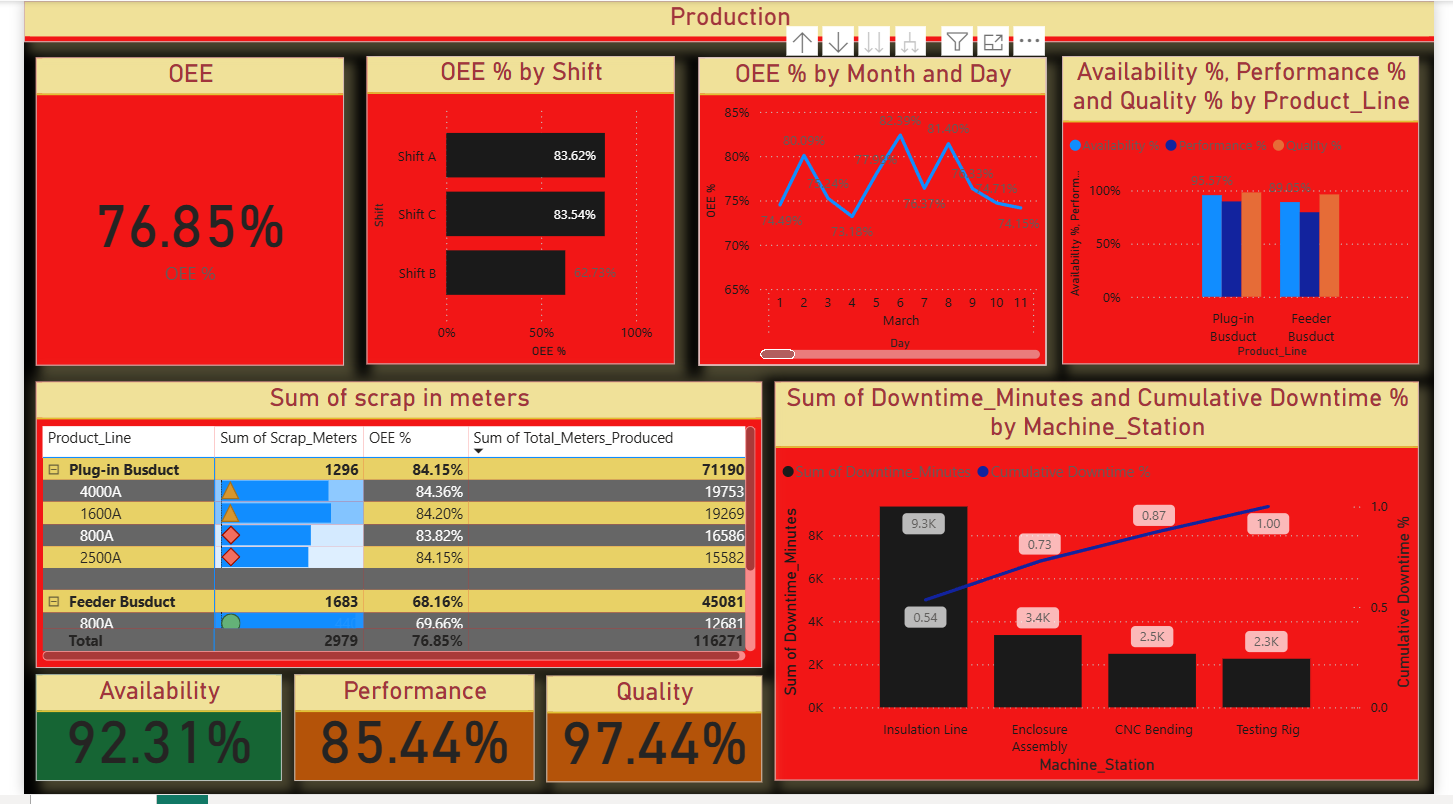

What the dashboard file says about the page in this screenshot:
{"tool":"powerbi","page":{"name":"OEE Sheet","canvas":[1280,720],"ordinal":0},"visuals":[{"type":"card","title":"OEE","fields":{"Values":["Downtime_Details.OEE %"]},"box":[10.7,51.2,279.9,279.9],"z":0},{"type":"clusteredBarChart","fields":{"Y":["Downtime_Details.OEE %"],"Category":["Downtime_Details.Shift"]},"box":[310.8,50,279.9,279.9],"z":1000},{"type":"textbox","title":"Production ","box":[0,0,1280.7,37.2],"z":2000},{"type":"lineClusteredColumnComboChart","fields":{"Y":["Sum(Downtime_Details.Downtime_Minutes)"],"Category":["Downtime_Details.Machine_Station"],"Y2":["Downtime_Details.Cumulative Downtime %"]},"box":[681.1,345.6,584.4,362.2],"z":3000},{"type":"lineChart","fields":{"Y":["Downtime_Details.OEE %"],"Category":["Production_Log.Date.Variation.Date Hierarchy.Month","Production_Log.Date.Variation.Date Hierarchy.Day"]},"box":[612.1,51.2,315.6,279.9],"z":4000},{"type":"clusteredColumnChart","fields":{"Category":["Production_Log.Product_Line"],"Y":["Downtime_Details.Availability %","Downtime_Details.Performance %","Downtime_Details.Quality %"]},"box":[942,50,323.9,279.9],"z":5000},{"type":"pivotTable","title":"Sum of scrap in meters","fields":{"Rows":["Production_Log.Product_Line","Production_Log.Amperage_Rating"],"Values":["Sum(Production_Log.Scrap_Meters)","Downtime_Details.OEE %","Sum(Production_Log.Total_Meters_Produced)"]},"box":[11.1,345.6,658.9,260],"z":6000},{"type":"card","title":"Availability ","fields":{"Values":["Downtime_Details.Availability %"]},"box":[11.1,611.1,223.3,96.7],"z":7000},{"type":"card","title":"Performance ","fields":{"Values":["Downtime_Details.Performance %"]},"box":[245.6,611.1,217.8,96.7],"z":8000},{"type":"card","title":"Quality ","fields":{"Values":["Downtime_Details.Quality %","select"]},"box":[474.4,612.2,195.6,96.7],"z":9000}]}

Visuals, with their boxes in screenshot pixels (x1, y1, x2, y2), scaled from the page's 1280x720 canvas onto the 1453x804 screenshot:
"OEE" card: [x1=12, y1=57, x2=330, y2=370]
clusteredBarChart - Downtime_Details.OEE % x Downtime_Details.Shift: [x1=353, y1=56, x2=671, y2=368]
"Production " textbox: [x1=0, y1=0, x2=1452, y2=42]
lineClusteredColumnComboChart - Sum(Downtime_Details.Downtime_Minutes) x Downtime_Details.Machine_Station: [x1=773, y1=386, x2=1437, y2=790]
lineChart - Downtime_Details.OEE % x Production_Log.Date.Variation.Date Hierarchy.Month: [x1=695, y1=57, x2=1053, y2=370]
clusteredColumnChart - Production_Log.Product_Line x Downtime_Details.Availability %: [x1=1069, y1=56, x2=1437, y2=368]
"Sum of scrap in meters" pivotTable: [x1=13, y1=386, x2=761, y2=676]
"Availability " card: [x1=13, y1=682, x2=266, y2=790]
"Performance " card: [x1=279, y1=682, x2=526, y2=790]
"Quality " card: [x1=539, y1=684, x2=761, y2=792]
